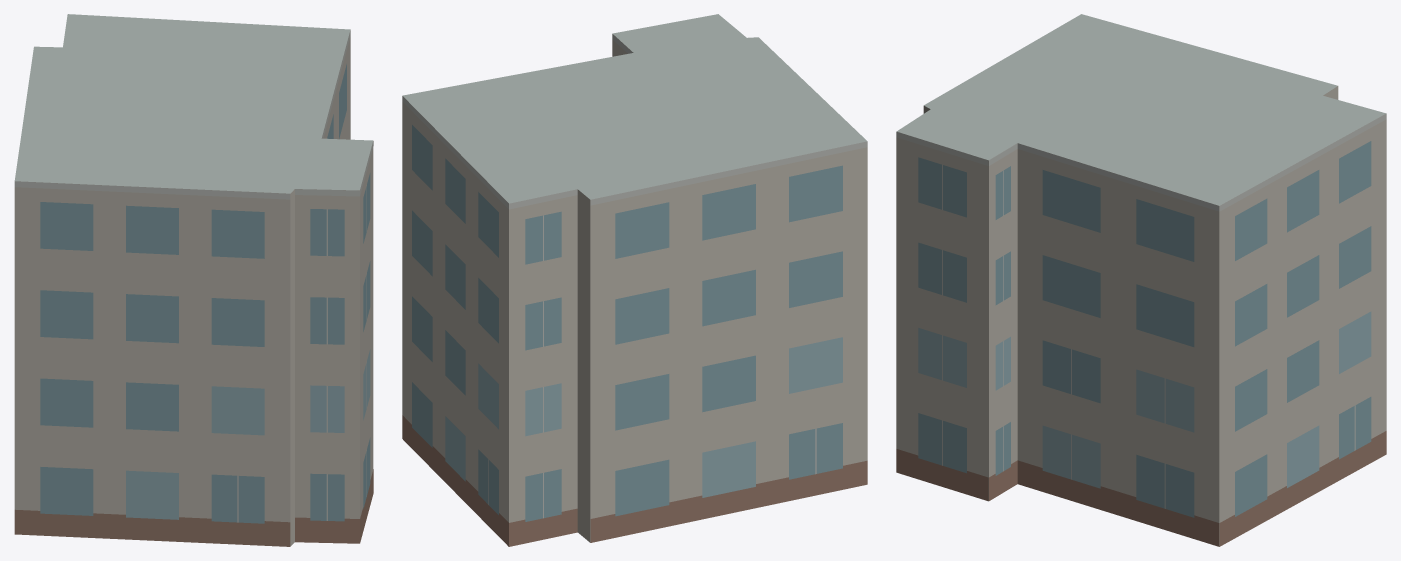
Rendered from survey-upis-32490057.glb.
3 renders of one model, left to right at view 1: azimuth 30°, elevation 25°; view 2: azimuth 150°, elevation 25°; view 3: azimuth 270°, elevation 25°, orthographic. The views are drawn at different scales.
Parts seen in each view (by area): view 1: survey-upis-32490057.tmp; view 2: survey-upis-32490057.tmp; view 3: survey-upis-32490057.tmp.
Boxes of the visible parts, x1,y1,x2,y2 form: survey-upis-32490057.tmp: (14, 14, 373, 546); survey-upis-32490057.tmp: (402, 14, 867, 546); survey-upis-32490057.tmp: (896, 14, 1386, 546).
Size of the model in its own units: 17.27 by 14.3 by 18.64.
